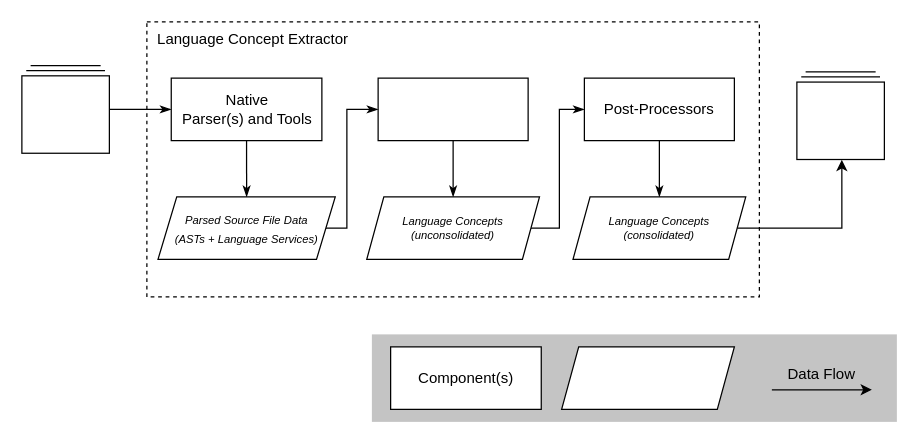
This 919x444 diagram has some shape labels left out. The shapes that lost their labels are listed below. From the top down, each one's centre as x and y in pixels, then its label:
At [65,108]: "Project Source Files".
At [452,109]: "Traversers + Processors".
At [840,115]: "JSON Export".
At [647,377]: "Data Structure".
